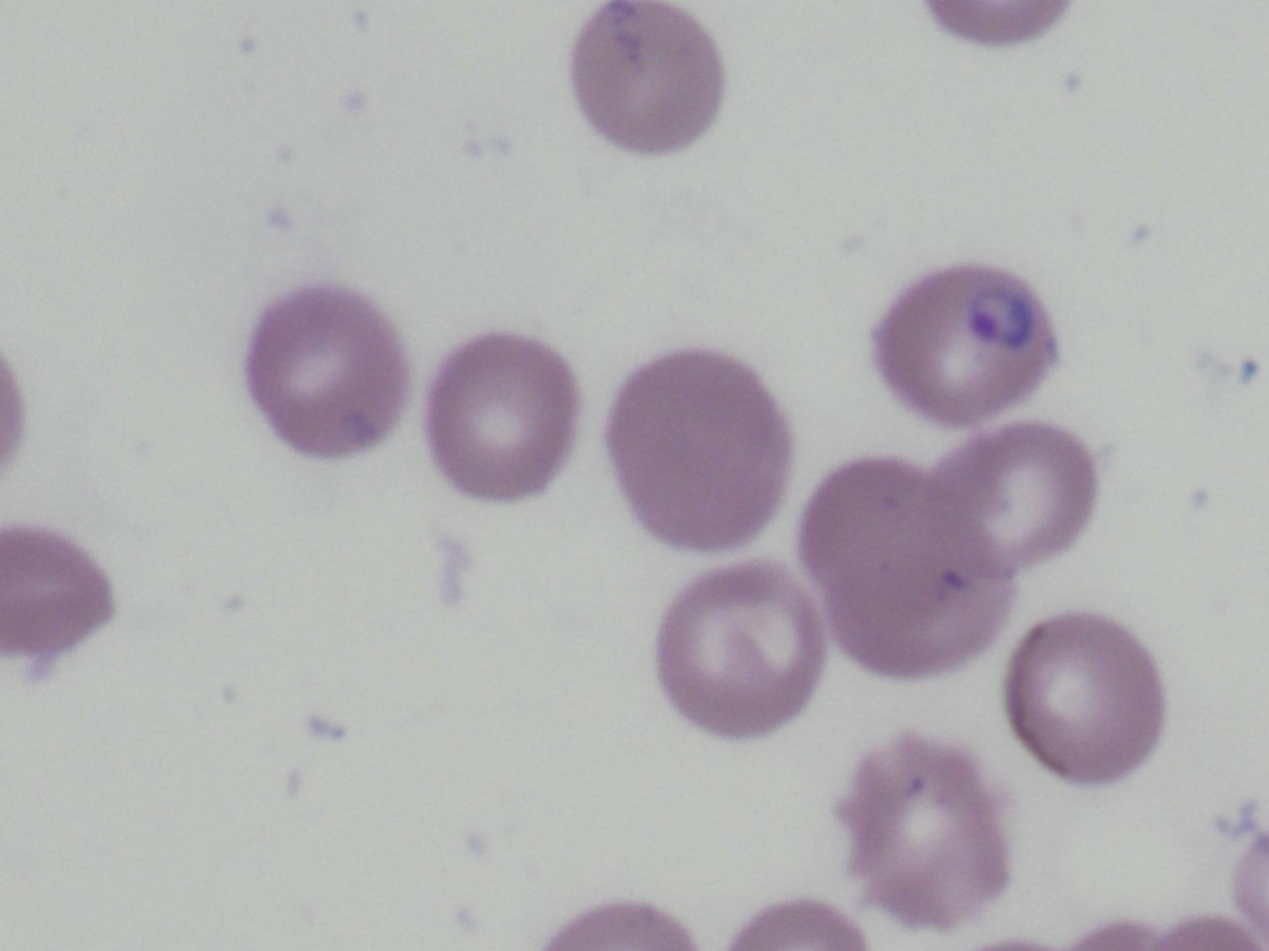Infected: (872, 263, 1063, 425)
Uninfected: (608, 347, 793, 555), (839, 732, 1015, 932), (657, 562, 833, 743), (833, 507, 1015, 675), (242, 287, 410, 461), (1005, 613, 1169, 783), (925, 421, 1099, 580), (427, 331, 585, 500), (793, 459, 958, 608), (571, 0, 727, 157), (0, 525, 119, 662)
